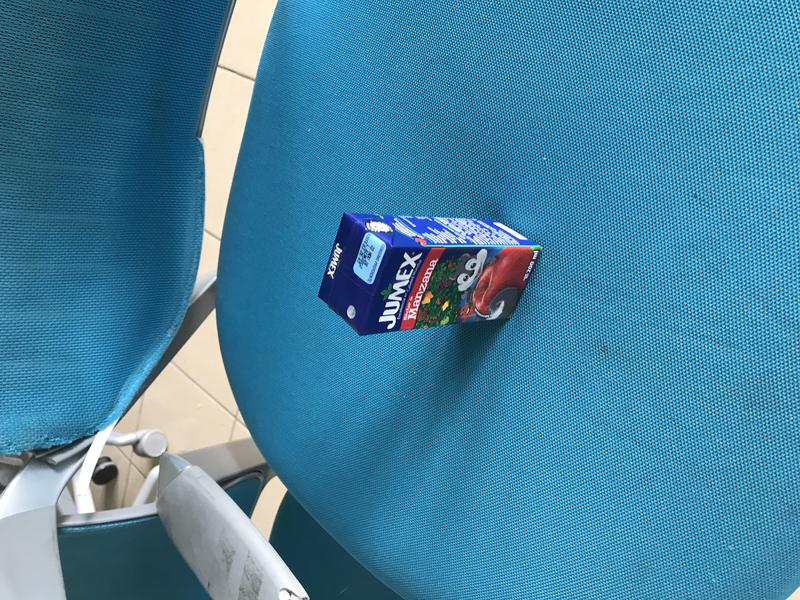jumex_cajita: (318, 210, 544, 338)
